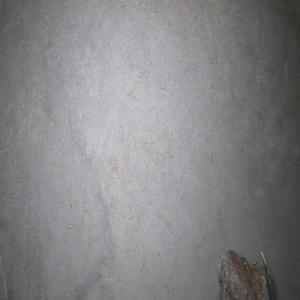Rock: (217, 250, 273, 300)
